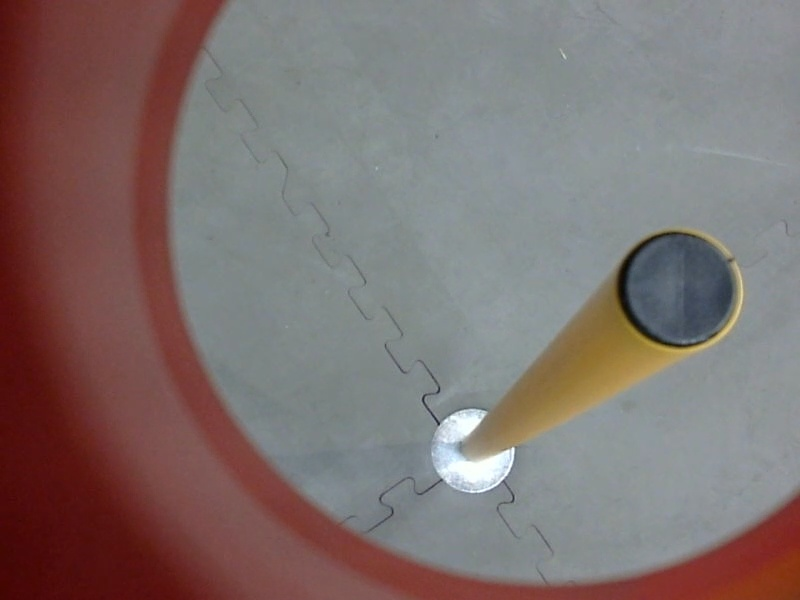tip: (611, 223, 747, 357)
